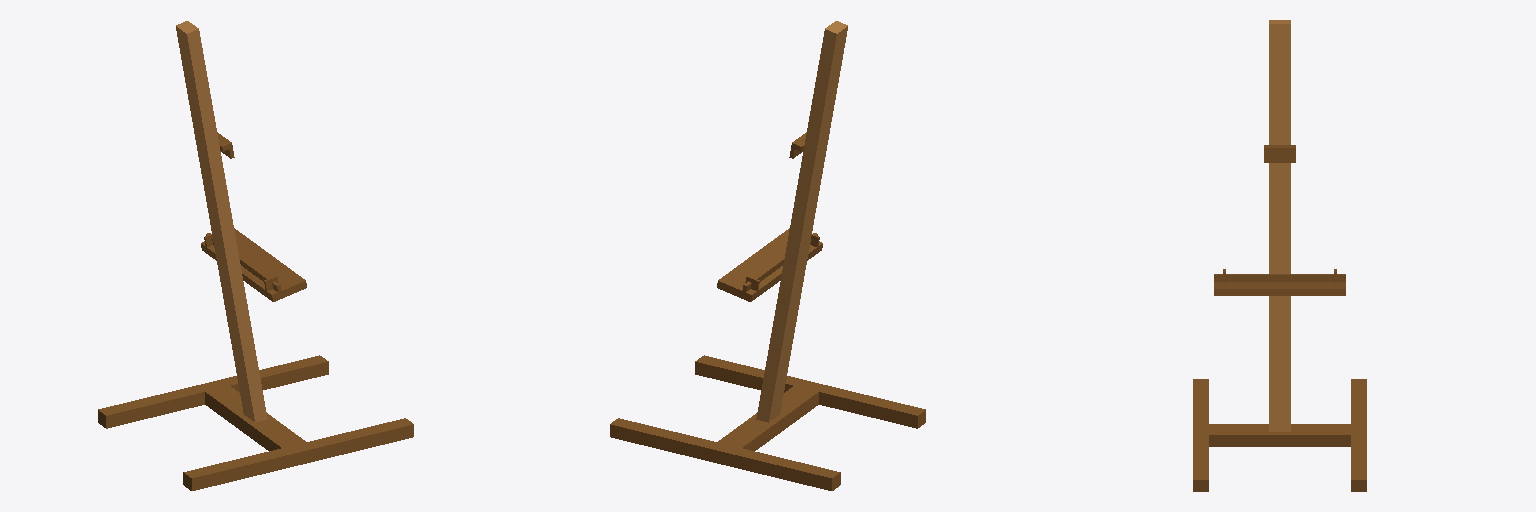
robot.urdf — chevalet:
<?xml version="1.0"?>
<!-- Chevalet de peintre (sans tableau). Repère de base : origine au sol au centre de l'empreinte,
     x = vers le peintre/robot (face du tableau), y = latéral, z = haut. Unités : SI. -->
<robot name="chevalet">
  <material name="bois"><color rgba="0.72 0.52 0.30 1"/></material>
  <material name="bois_fonce"><color rgba="0.55 0.38 0.20 1"/></material>

  <link name="easel_base">
    <inertial>
      <origin xyz="0.00000 0.00000 0.02500" rpy="0 0 0"/>
      <mass value="5.2650"/>
      <inertia ixx="0.360696" ixy="0.000000" ixz="0.000000" iyy="0.239484" iyz="0.000000" izz="0.597987"/>
    </inertial>
    <visual>
      <!-- patin_gauche -->
      <origin xyz="0.0000 0.3000 0.0250" rpy="0 0 0"/>
      <geometry><box size="0.9000 0.0600 0.0500"/></geometry>
      <material name="bois_fonce"/>
    </visual>
    <collision>
      <!-- patin_gauche -->
      <origin xyz="0.0000 0.3000 0.0250" rpy="0 0 0"/>
      <geometry><box size="0.9000 0.0600 0.0500"/></geometry>
    </collision>
    <visual>
      <!-- patin_droit -->
      <origin xyz="0.0000 -0.3000 0.0250" rpy="0 0 0"/>
      <geometry><box size="0.9000 0.0600 0.0500"/></geometry>
      <material name="bois_fonce"/>
    </visual>
    <collision>
      <!-- patin_droit -->
      <origin xyz="0.0000 -0.3000 0.0250" rpy="0 0 0"/>
      <geometry><box size="0.9000 0.0600 0.0500"/></geometry>
    </collision>
    <visual>
      <!-- traverse -->
      <origin xyz="0.0000 0.0000 0.0250" rpy="0 0 0"/>
      <geometry><box size="0.1000 0.5400 0.0500"/></geometry>
      <material name="bois_fonce"/>
    </visual>
    <collision>
      <!-- traverse -->
      <origin xyz="0.0000 0.0000 0.0250" rpy="0 0 0"/>
      <geometry><box size="0.1000 0.5400 0.0500"/></geometry>
    </collision>
  </link>

  <link name="mast">
    <inertial>
      <origin xyz="0.00000 0.00000 0.80000" rpy="0 0 0"/>
      <mass value="4.1600"/>
      <inertia ixx="0.889685" ixy="0.000000" ixz="0.000000" iyy="0.888333" iyz="0.000000" izz="0.003085"/>
    </inertial>
    <visual>
      <!-- mat -->
      <origin xyz="0.0000 0.0000 0.8000" rpy="0 0 0"/>
      <geometry><box size="0.0500 0.0800 1.6000"/></geometry>
      <material name="bois"/>
    </visual>
    <collision>
      <!-- mat -->
      <origin xyz="0.0000 0.0000 0.8000" rpy="0 0 0"/>
      <geometry><box size="0.0500 0.0800 1.6000"/></geometry>
    </collision>
  </link>

  <link name="ledge">
    <inertial>
      <origin xyz="0.09121 0.00000 0.58782" rpy="0 0 0"/>
      <mass value="1.5129"/>
      <inertia ixx="0.032348" ixy="0.000000" ixz="0.000150" iyy="0.002664" iyz="0.000000" izz="0.034563"/>
    </inertial>
    <visual>
      <!-- tablette -->
      <origin xyz="0.0950 0.0000 0.5850" rpy="0 0 0"/>
      <geometry><box size="0.1400 0.5000 0.0300"/></geometry>
      <material name="bois_fonce"/>
    </visual>
    <collision>
      <!-- tablette -->
      <origin xyz="0.0950 0.0000 0.5850" rpy="0 0 0"/>
      <geometry><box size="0.1400 0.5000 0.0300"/></geometry>
    </collision>
    <visual>
      <!-- rebord -->
      <origin xyz="0.0575 0.0000 0.6125" rpy="0 0 0"/>
      <geometry><box size="0.0150 0.5000 0.0250"/></geometry>
      <material name="bois_fonce"/>
    </visual>
    <collision>
      <!-- rebord -->
      <origin xyz="0.0575 0.0000 0.6125" rpy="0 0 0"/>
      <geometry><box size="0.0150 0.5000 0.0250"/></geometry>
    </collision>
    <visual>
      <!-- butee_gauche -->
      <origin xyz="0.0500 0.2100 0.6200" rpy="0 0 0"/>
      <geometry><box size="0.0500 0.0100 0.0400"/></geometry>
      <material name="bois_fonce"/>
    </visual>
    <collision>
      <!-- butee_gauche -->
      <origin xyz="0.0500 0.2100 0.6200" rpy="0 0 0"/>
      <geometry><box size="0.0500 0.0100 0.0400"/></geometry>
    </collision>
    <visual>
      <!-- butee_droite -->
      <origin xyz="0.0500 -0.2100 0.6200" rpy="0 0 0"/>
      <geometry><box size="0.0500 0.0100 0.0400"/></geometry>
      <material name="bois_fonce"/>
    </visual>
    <collision>
      <!-- butee_droite -->
      <origin xyz="0.0500 -0.2100 0.6200" rpy="0 0 0"/>
      <geometry><box size="0.0500 0.0100 0.0400"/></geometry>
    </collision>
  </link>

  <link name="top_clamp">
    <inertial>
      <origin xyz="0.05036 0.00000 1.10214" rpy="0 0 0"/>
      <mass value="0.1092"/>
      <inertia ixx="0.000163" ixy="0.000000" ixz="0.000010" iyy="0.000046" iyz="0.000000" izz="0.000144"/>
    </inertial>
    <visual>
      <!-- plaque -->
      <origin xyz="0.0450 0.0000 1.1150" rpy="0 0 0"/>
      <geometry><box size="0.0400 0.1200 0.0200"/></geometry>
      <material name="bois_fonce"/>
    </visual>
    <collision>
      <!-- plaque -->
      <origin xyz="0.0450 0.0000 1.1150" rpy="0 0 0"/>
      <geometry><box size="0.0400 0.1200 0.0200"/></geometry>
    </collision>
    <visual>
      <!-- retour -->
      <origin xyz="0.0575 0.0000 1.0850" rpy="0 0 0"/>
      <geometry><box size="0.0150 0.1200 0.0400"/></geometry>
      <material name="bois_fonce"/>
    </visual>
    <collision>
      <!-- retour -->
      <origin xyz="0.0575 0.0000 1.0850" rpy="0 0 0"/>
      <geometry><box size="0.0150 0.1200 0.0400"/></geometry>
    </collision>
  </link>

  <!-- ===== LINK D'ACCUEIL DU TABLEAU (repère sans masse) =====
       Origine : milieu de l'arête basse du dos du tableau, posée sur la tablette, dos contre le mât.
       Axes (inclinés de 10° avec le mât) : +x = normale de la face peinte (vers le robot),
       +y = largeur du tableau, +z = hauteur du tableau (dans son plan). -->
  <!-- Repère sans masse utile. Une inertie infinitésimale empêche le chargeur
       de lui substituer 1 kg (un lien sans <inertial> est sinon lesté). -->
  <link name="canvas_mount">
    <inertial>
      <mass value="1e-6"/>
      <origin xyz="0 0 0" rpy="0 0 0"/>
      <inertia ixx="1e-9" ixy="0" ixz="0" iyy="1e-9" iyz="0" izz="1e-9"/>
    </inertial>
  </link>

  <joint name="mast_joint" type="fixed">
    <parent link="easel_base"/><child link="mast"/>
    <origin xyz="0 0 0.045" rpy="0 -0.174533 0"/>
  </joint>
  <joint name="ledge_joint" type="fixed">
    <parent link="mast"/><child link="ledge"/><origin xyz="0 0 0" rpy="0 0 0"/>
  </joint>
  <joint name="top_clamp_joint" type="fixed">
    <parent link="mast"/><child link="top_clamp"/><origin xyz="0 0 0" rpy="0 0 0"/>
  </joint>
  <joint name="canvas_mount_joint" type="fixed">
    <parent link="mast"/><child link="canvas_mount"/>
    <origin xyz="0.025 0 0.6" rpy="0 0 0"/>
  </joint>
</robot>

--- Render facts (derived) ---
The picture shows the robot from 3 angles, left to right: view 1: azimuth 30°, elevation 25°; view 2: azimuth 150°, elevation 25°; view 3: azimuth 270°, elevation 25°; orthographic projection.
Model chevalet with 5 links and 4 joints (4 fixed), rooted at easel_base, posed every joint at zero.
Links seen in each view (by area): view 1: easel_base, mast, ledge; view 2: easel_base, mast, ledge; view 3: mast, easel_base, ledge, top_clamp.
Link boxes in pixels (x1,y1,x2,y2): easel_base: (98, 355, 413, 490); mast: (176, 21, 267, 422); ledge: (201, 228, 306, 301); easel_base: (610, 355, 925, 490); mast: (756, 21, 847, 422); ledge: (717, 228, 822, 301); mast: (1269, 20, 1290, 431); easel_base: (1193, 379, 1366, 491); ledge: (1214, 269, 1345, 295); top_clamp: (1264, 145, 1295, 162).
Size in the robot's own frame: 0.9 by 0.66 by 1.62 metres.
Geometry: primitives only (box / cylinder / sphere), no mesh files.
